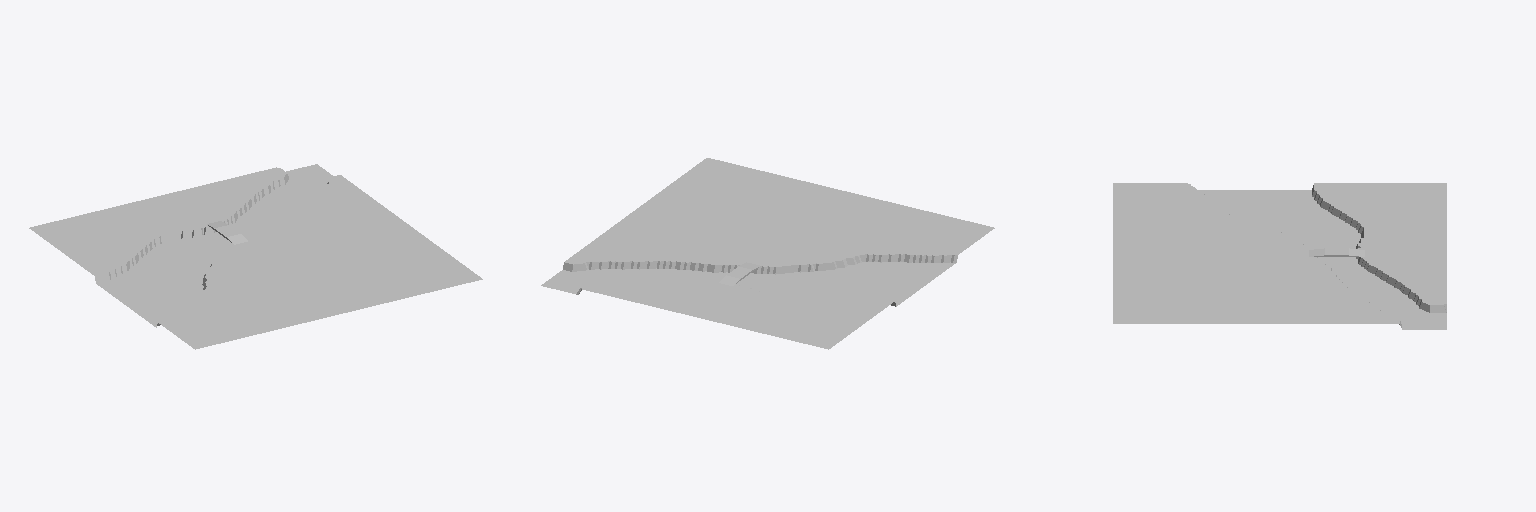
Rendered from terrain.obj.
3 renders of one model, left to right at view 1: azimuth 30°, elevation 25°; view 2: azimuth 150°, elevation 25°; view 3: azimuth 270°, elevation 25°, orthographic.
Visible parts, largest first — view 1: terreno; view 2: terreno; view 3: terreno.
Part boxes in pixels (x1,y1,x2,y2): terreno: (29,164,482,349); terreno: (541,158,994,349); terreno: (1113,183,1446,329).
Size of the model in its own units: 40 by 1.08 by 40.